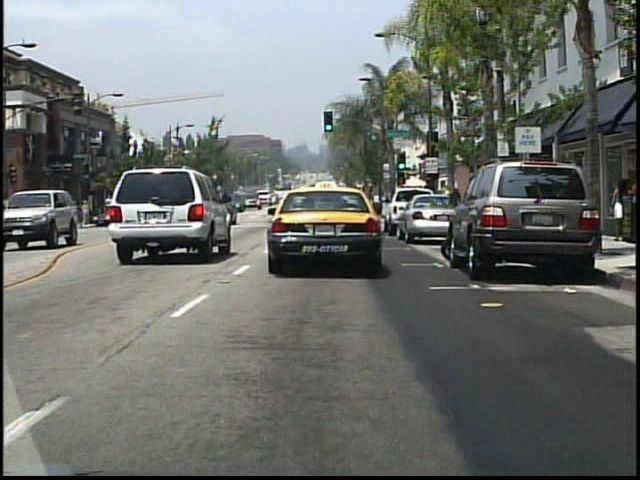person: (610, 181, 632, 243)
